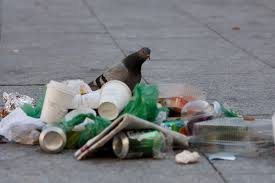garbage: (4, 82, 253, 157)
